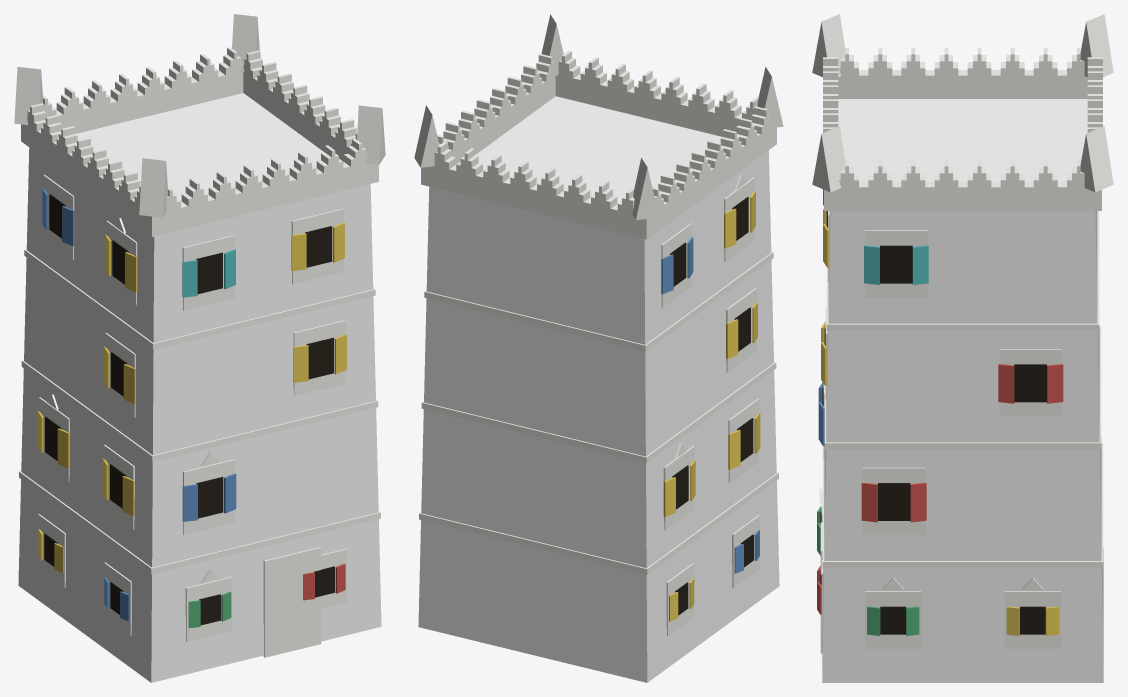
Rendered from SM_RijalAlmaaHouse_02.fbx.
The picture shows the model from 3 angles, left to right: view 1: azimuth 30°, elevation 25°; view 2: azimuth 150°, elevation 25°; view 3: azimuth 270°, elevation 25°; orthographic projection. The views are drawn at different scales.
Visible parts, largest first — view 1: SM_RijalAlmaaHouse_02; view 2: SM_RijalAlmaaHouse_02; view 3: SM_RijalAlmaaHouse_02.
Part boxes in pixels (x1=…): SM_RijalAlmaaHouse_02: x1=14, y1=14, x2=385, y2=682; SM_RijalAlmaaHouse_02: x1=414, y1=14, x2=783, y2=682; SM_RijalAlmaaHouse_02: x1=812, y1=14, x2=1113, y2=682.
Bounding box in the file's own units: 696 × 1405 × 696.
